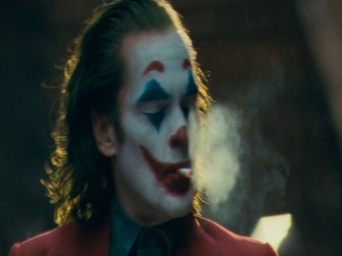smoke: (173, 165, 195, 179)
